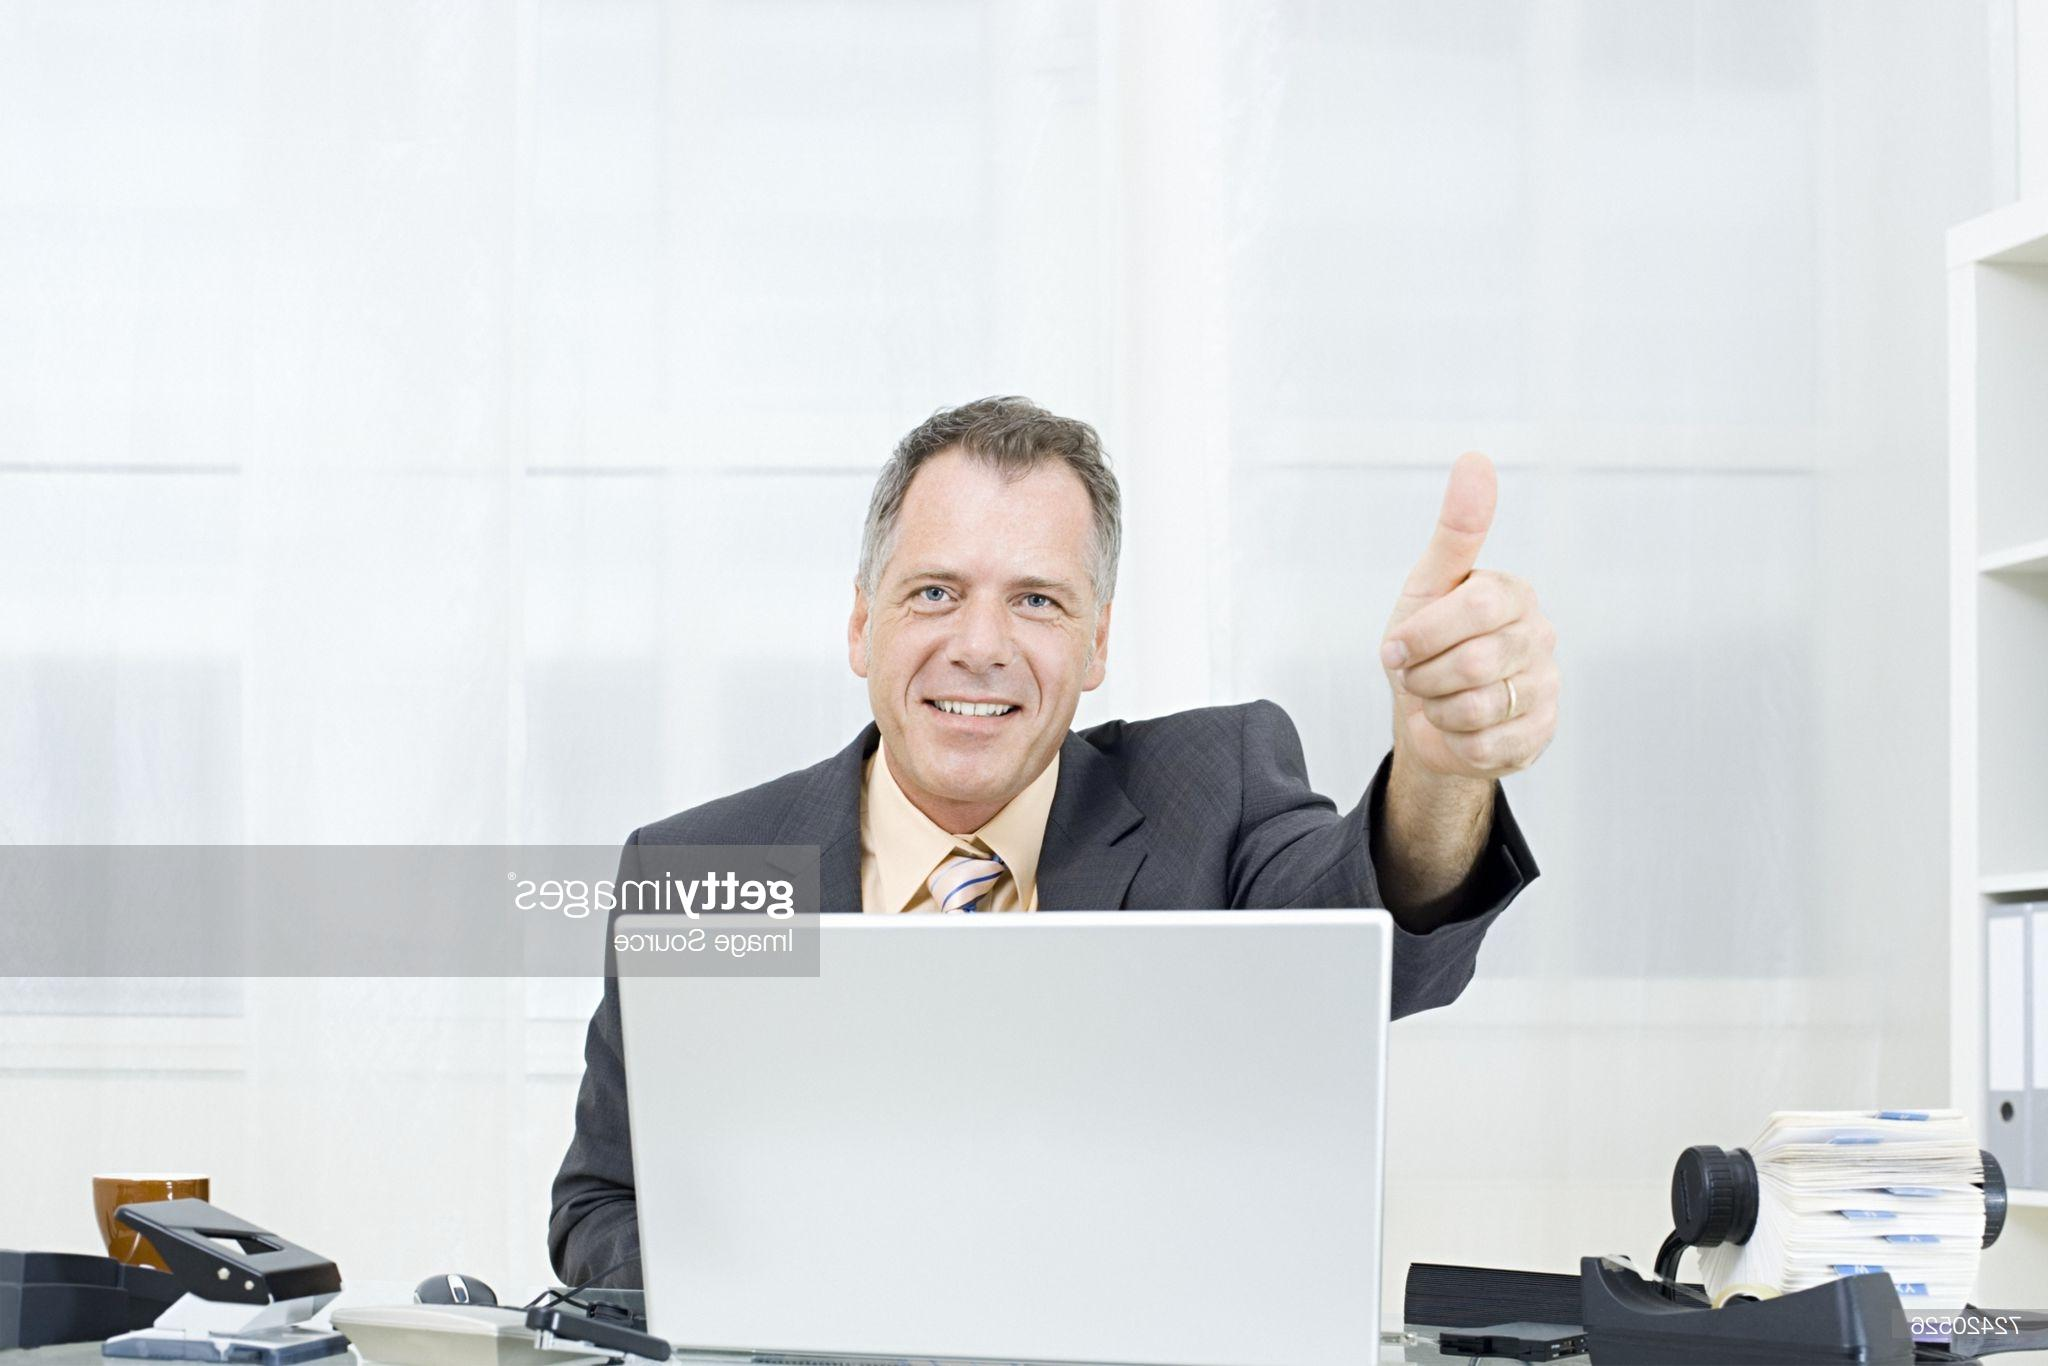thumbsup: (1381, 450, 1562, 774)
